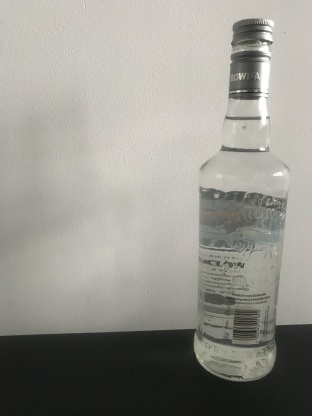nakretka: (227, 16, 275, 101)
